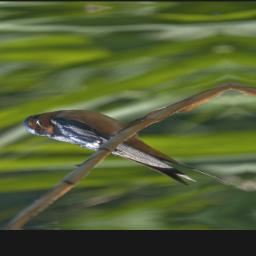Swallow: (20, 101, 234, 196)
